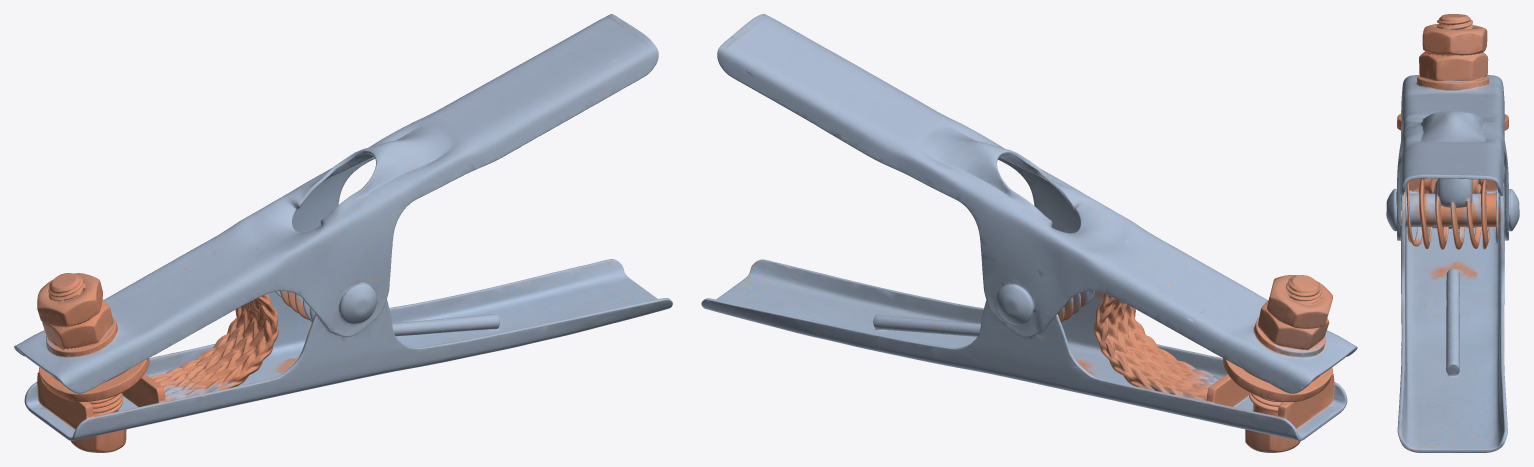
Rendered from bumi.glb.
3 views of the same model, side by side, from view 1: azimuth 30°, elevation 25°; view 2: azimuth 150°, elevation 25°; view 3: azimuth 270°, elevation 25° (orthographic).
Parts seen in each view (by area): view 1: Meshy_Welding Ground Clamp_mesh_node; view 2: Meshy_Welding Ground Clamp_mesh_node; view 3: Meshy_Welding Ground Clamp_mesh_node.
Part boxes in pixels (x1,y1,x2,y2): Meshy_Welding Ground Clamp_mesh_node: [14, 14, 672, 452]; Meshy_Welding Ground Clamp_mesh_node: [701, 14, 1357, 452]; Meshy_Welding Ground Clamp_mesh_node: [1386, 14, 1519, 452].
Size of the model in its own units: 1.9 by 0.851 by 0.3606.
Materials: 1 (1 with a texture image).
